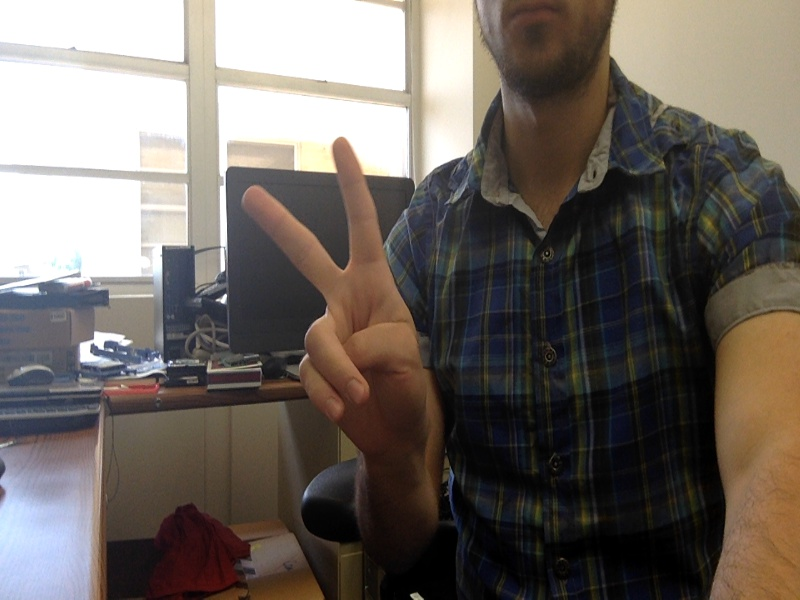2-hand: (242, 138, 432, 468)
